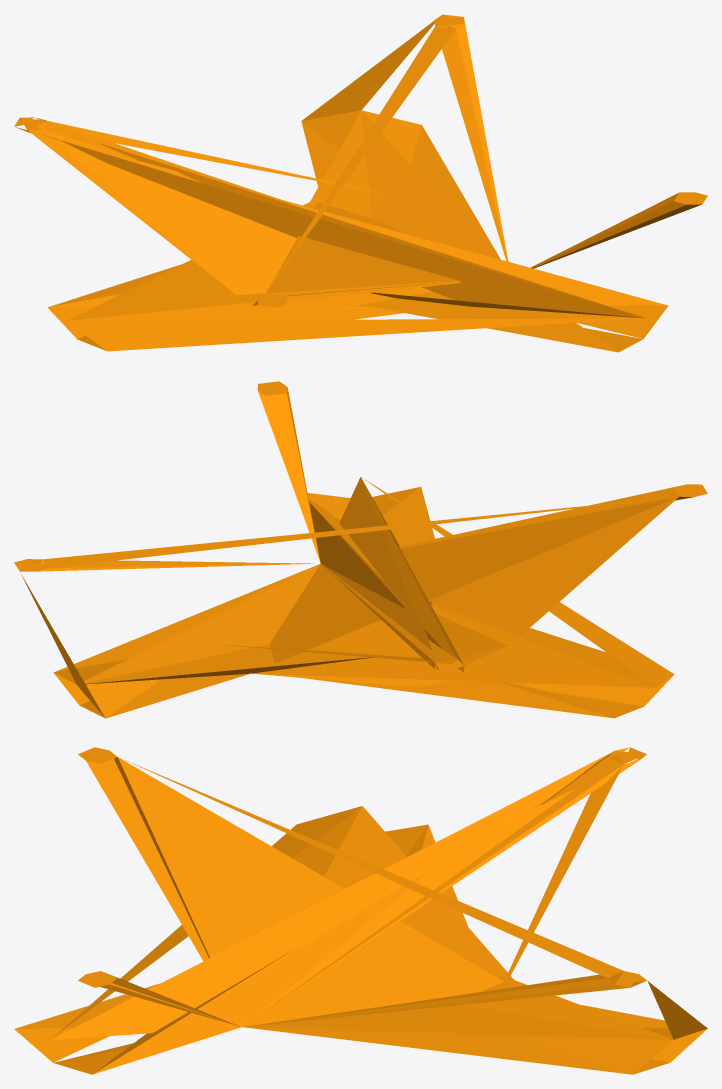
Rendered from S.S._Dolphin_Main_Engine_Part_5.obj.
3 renders of one model, top to bottom at view 1: azimuth 30°, elevation 25°; view 2: azimuth 150°, elevation 25°; view 3: azimuth 270°, elevation 25°, orthographic. The views are drawn at different scales.
Visible parts, largest first — view 1: S.S._Dolphin_Main_Engine_Part_5; view 2: S.S._Dolphin_Main_Engine_Part_5; view 3: S.S._Dolphin_Main_Engine_Part_5.
Boxes of the visible parts, x1=… form: S.S._Dolphin_Main_Engine_Part_5: x1=14, y1=14, x2=707, y2=352; S.S._Dolphin_Main_Engine_Part_5: x1=14, y1=381, x2=707, y2=718; S.S._Dolphin_Main_Engine_Part_5: x1=14, y1=747, x2=707, y2=1074.
Bounding box in the file's own units: 3.37 × 0.6763 × 3.55.
